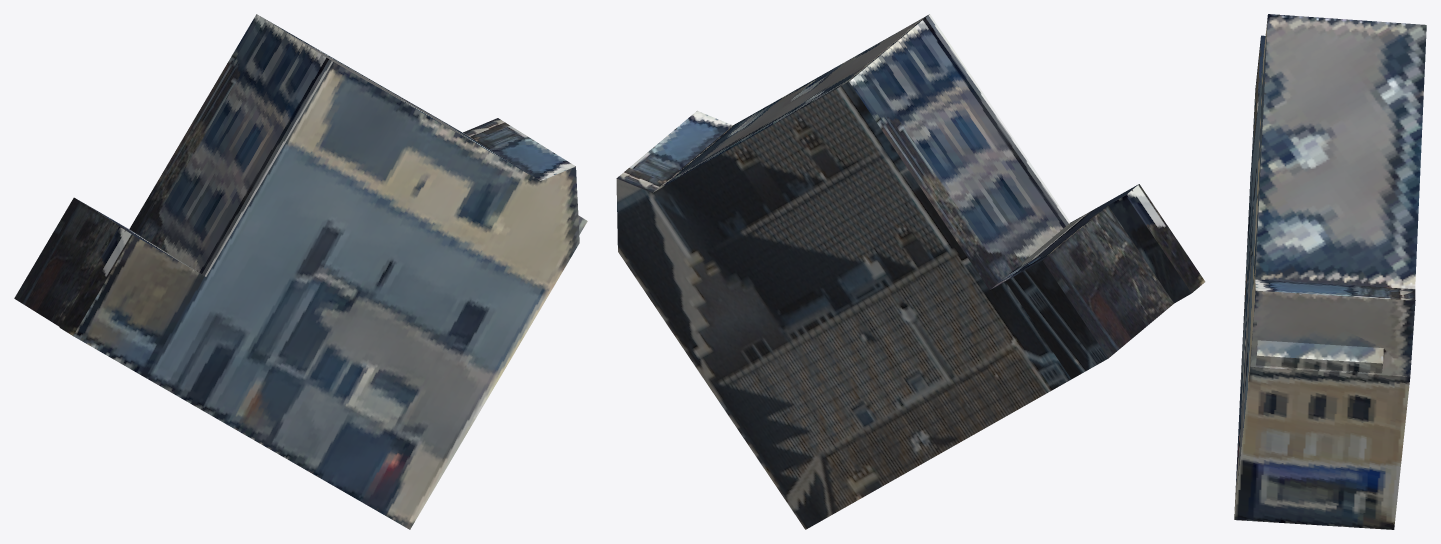
3 renders of one model, left to right at view 1: azimuth 30°, elevation 25°; view 2: azimuth 150°, elevation 25°; view 3: azimuth 270°, elevation 25°, orthographic.
Visible parts, largest first — view 1: BAG_0599100000671684 (×5); view 2: BAG_0599100000671684 (×5); view 3: BAG_0599100000671684 (×5).
Part boxes in pixels (x1,y1,x2,y2): BAG_0599100000671684 (×5): (14, 14, 587, 529); BAG_0599100000671684 (×5): (616, 14, 1205, 529); BAG_0599100000671684 (×5): (1234, 14, 1426, 529).
Size of the model in its own units: 24.19 by 21.49 by 7.72.
Materials: 6 (5 with a texture image).
